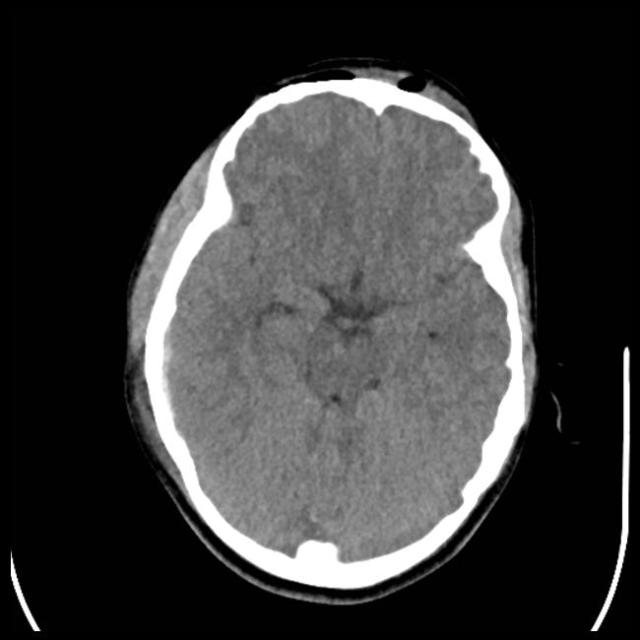lesion: (125, 65, 542, 594)
